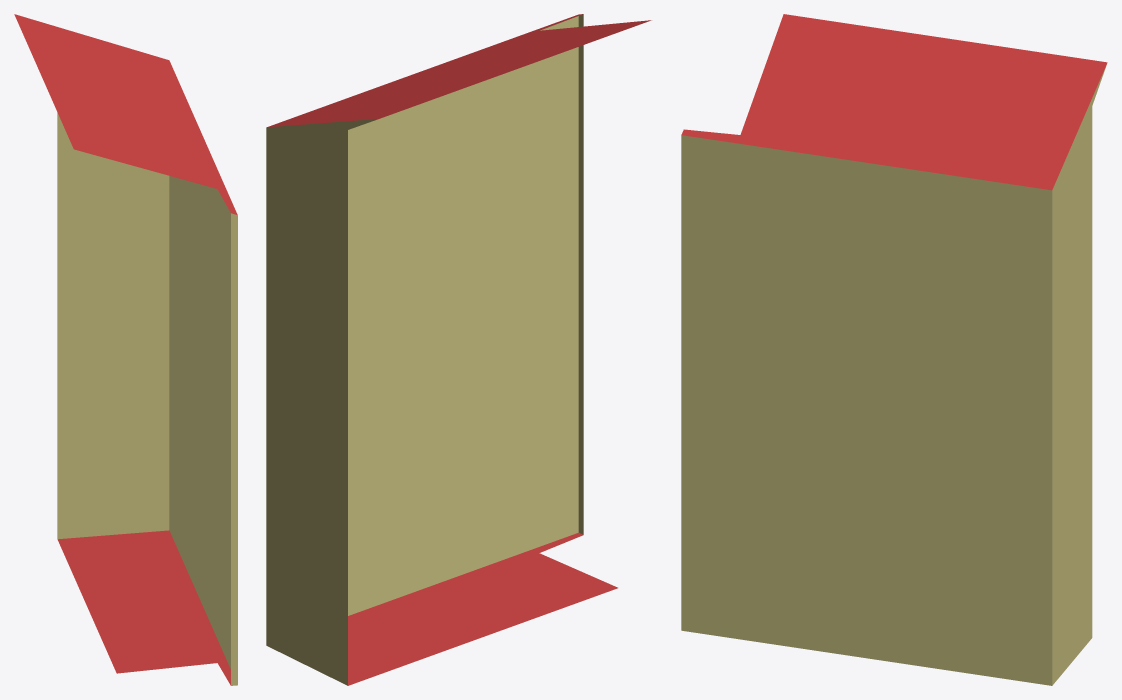
The picture shows the model from 3 angles, left to right: view 1: azimuth 30°, elevation 25°; view 2: azimuth 150°, elevation 25°; view 3: azimuth 270°, elevation 25°; orthographic projection. The views are drawn at different scales.
Bounding box in the file's own units: 5.08 × 7.99 × 11.52.
